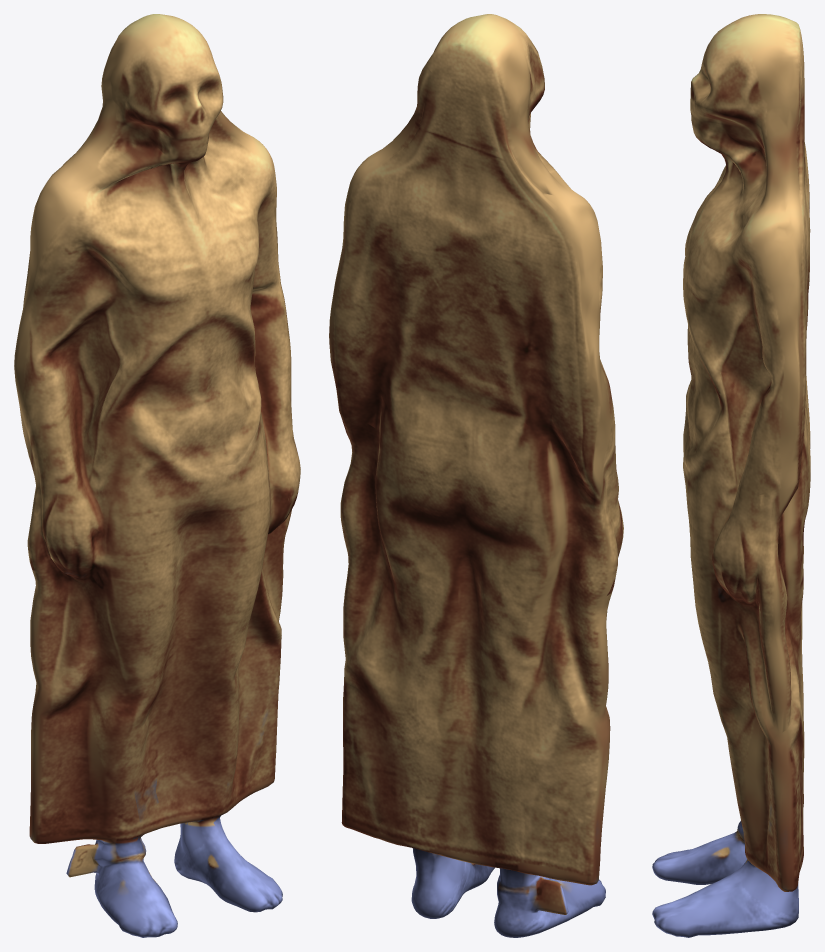
The model's file is SheetedMorgueBody_HP.fbx.
The picture shows the model from 3 angles, left to right: view 1: azimuth 30°, elevation 25°; view 2: azimuth 150°, elevation 25°; view 3: azimuth 270°, elevation 25°; orthographic projection. The views are drawn at different scales.
Visible parts, largest first — view 1: SheetedMorgueBody_HP; view 2: SheetedMorgueBody_HP; view 3: SheetedMorgueBody_HP.
Part boxes in pixels (bbox=[...]): SheetedMorgueBody_HP: bbox=[14, 14, 300, 937]; SheetedMorgueBody_HP: bbox=[329, 14, 623, 937]; SheetedMorgueBody_HP: bbox=[652, 14, 810, 937].
Bounding box in the file's own units: 0.5858 × 1.84 × 0.2981.
1 material, 1 textured.
